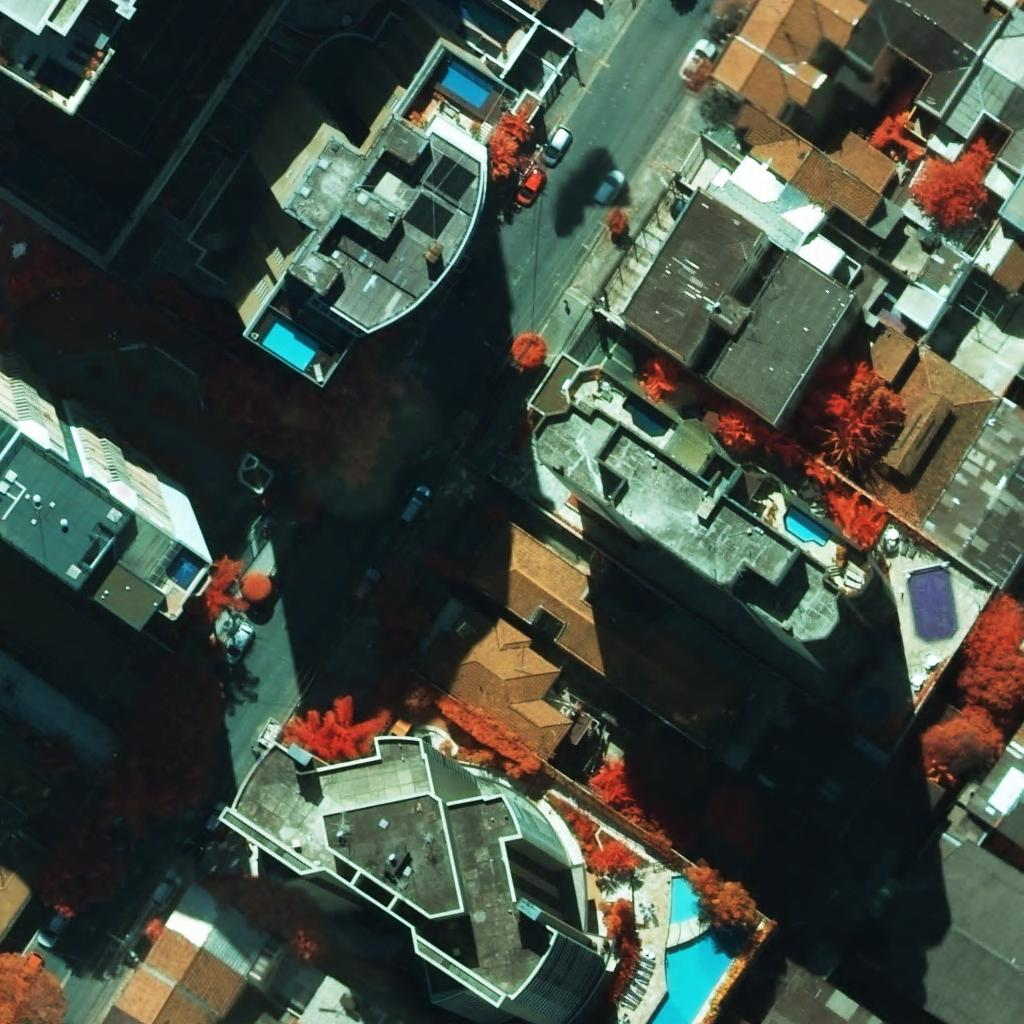pool: (646, 876, 737, 1024), (908, 565, 959, 643), (260, 318, 321, 371), (432, 59, 493, 109), (622, 393, 674, 437), (784, 505, 832, 546), (165, 547, 205, 591)
